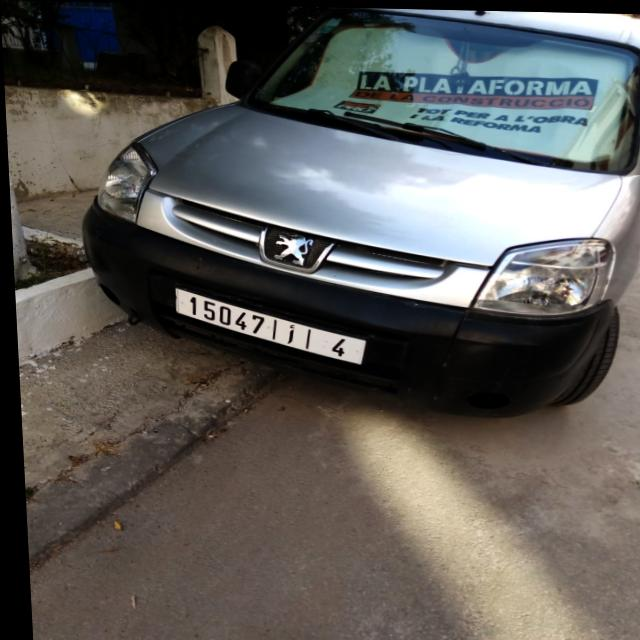License-Plate: (172, 288, 362, 362)
